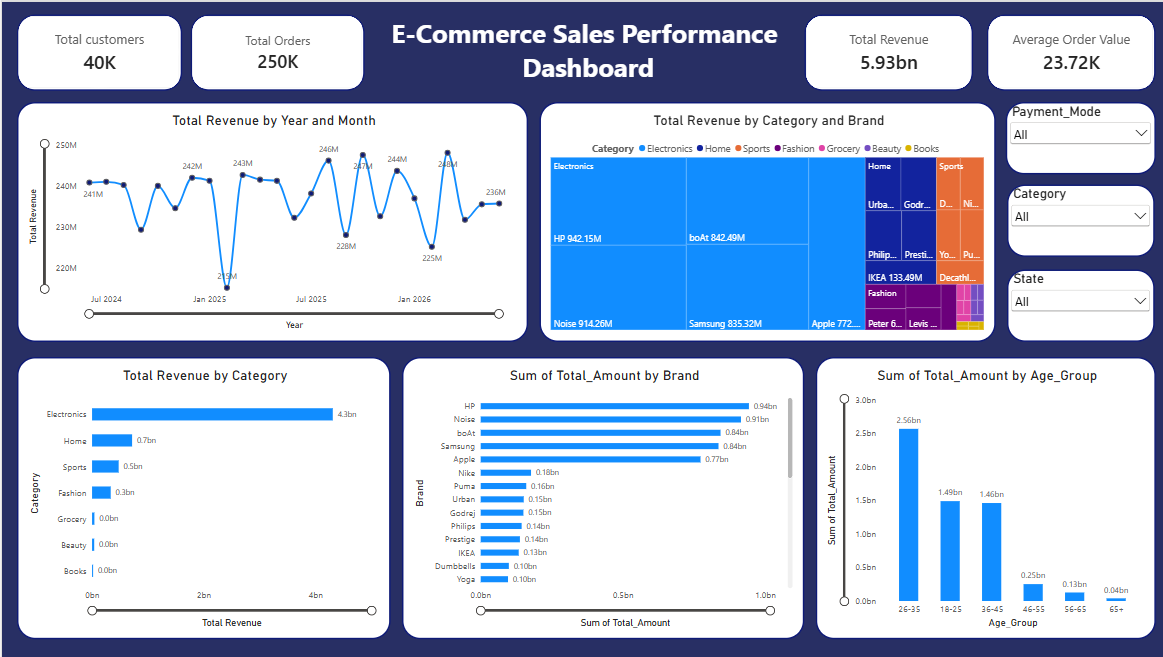

What the dashboard file says about the page in this screenshot:
{"tool":"powerbi","page":{"name":"Page 1","canvas":[1920,1080],"ordinal":0},"visuals":[{"type":"textbox","box":[596.9,20.6,724.5,125.6],"z":0},{"type":"cardVisual","fields":{"Data":["sales.Total customers"]},"box":[24.7,20.6,271.7,125.6],"z":1000},{"type":"cardVisual","fields":{"Data":["sales.Average Order Value"]},"box":[1622,20.6,277.9,125.6],"z":2000},{"type":"cardVisual","fields":{"Data":["sales.Total Revenue"]},"box":[1321.4,20.6,277.9,125.6],"z":3000},{"type":"cardVisual","fields":{"Data":["sales.Total Orders"]},"box":[310.8,20.6,286.1,125.6],"z":4000},{"type":"lineChart","fields":{"Category":["sales.Order_Date.Variation.Date Hierarchy.Year","sales.Order_Date.Variation.Date Hierarchy.Month"],"Y":["sales.Total Revenue"]},"box":[24.7,164.7,841.9,395.2],"z":5000},{"type":"clusteredBarChart","fields":{"Category":["products.Category"],"Y":["sales.Total Revenue"]},"box":[24.7,584.6,615.4,465.2],"z":6000},{"type":"slicer","fields":{"Values":["customers.State"]},"box":[1654.9,440.5,242.9,119.4],"z":7000},{"type":"slicer","fields":{"Values":["products.Category"]},"box":[1654.9,300.5,242.9,119.4],"z":8000},{"type":"slicer","fields":{"Values":["sales.Payment_Mode"]},"box":[1652.8,164.7,247,119.4],"z":9000},{"type":"columnChart","fields":{"Category":["customers.Age_Group"],"Y":["Sum(sales.Total_Amount)"]},"box":[1340,584.6,559.9,465.2],"z":9001},{"type":"clusteredBarChart","fields":{"Category":["products.Brand"],"Y":["Sum(sales.Total_Amount)"]},"box":[658.7,584.6,662.8,465.2],"z":9002},{"type":"treemap","fields":{"Details":["products.Brand"],"Group":["products.Category"],"Values":["sales.Total Revenue"]},"box":[885.1,164.7,751.3,395.2],"z":9003}]}

Visuals, with their boxes in screenshot pixels (x1, y1, x2, y2), scaled from the page's 1920x1080 canvas onto the 1163x657 screenshot:
textbox: 362, 13, 800, 89
cardVisual - sales.Total customers: 15, 13, 180, 89
cardVisual - sales.Average Order Value: 982, 13, 1151, 89
cardVisual - sales.Total Revenue: 800, 13, 969, 89
cardVisual - sales.Total Orders: 188, 13, 362, 89
lineChart - sales.Order_Date.Variation.Date Hierarchy.Year x sales.Order_Date.Variation.Date Hierarchy.Month: 15, 100, 525, 341
clusteredBarChart - products.Category x sales.Total Revenue: 15, 356, 388, 639
slicer - customers.State: 1002, 268, 1150, 341
slicer - products.Category: 1002, 183, 1150, 255
slicer - sales.Payment_Mode: 1001, 100, 1151, 173
columnChart - customers.Age_Group x Sum(sales.Total_Amount): 812, 356, 1151, 639
clusteredBarChart - products.Brand x Sum(sales.Total_Amount): 399, 356, 800, 639
treemap - products.Brand x products.Category: 536, 100, 991, 341
